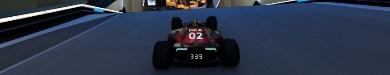Car: (151, 16, 240, 69)
obstacles-Borders: (0, 3, 123, 46)
